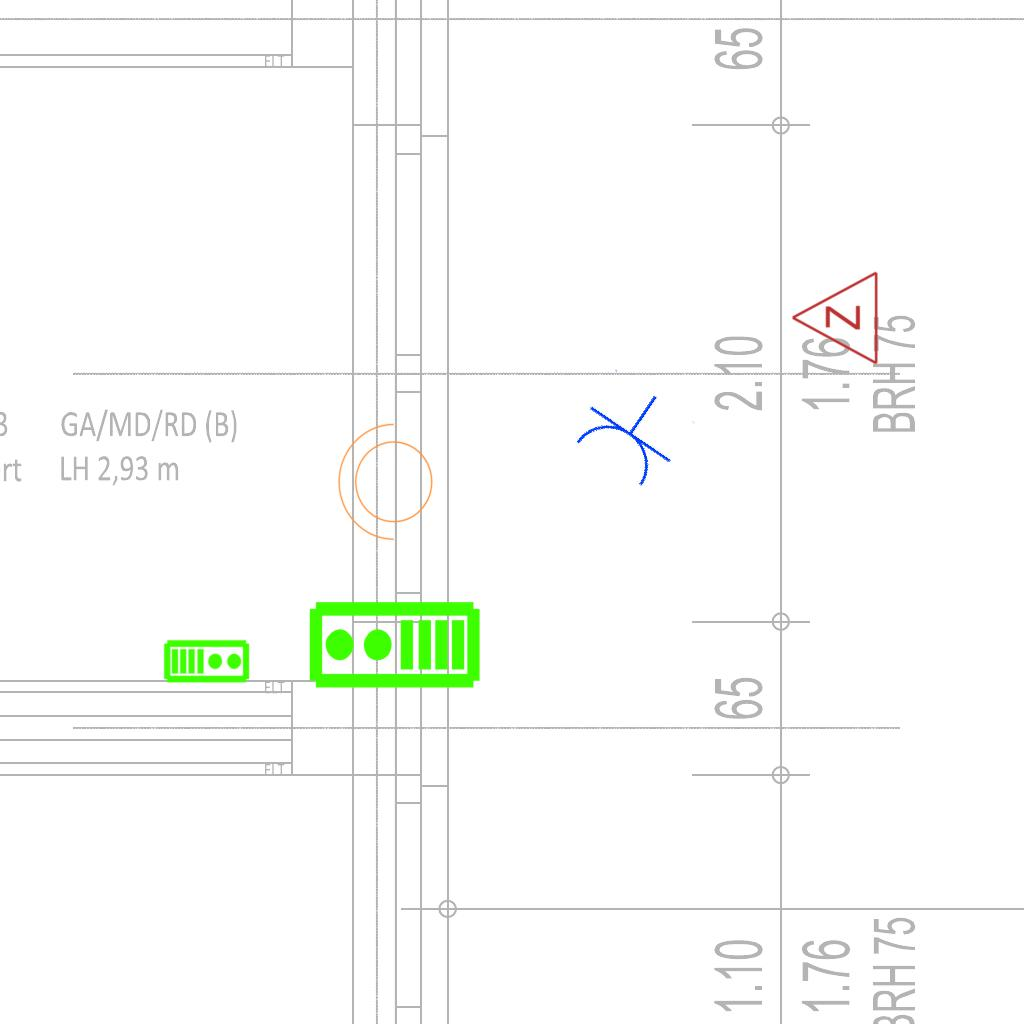Gegensprechanlage_mit_Video: (306, 599, 482, 694), (163, 637, 251, 684)
Scheinwerfer_fuer_Alarmbeleuchtung: (333, 419, 445, 551)
Schukosteckdose_einfach: (565, 367, 697, 496)
Zimmersignalleuchte: (785, 270, 885, 368)
